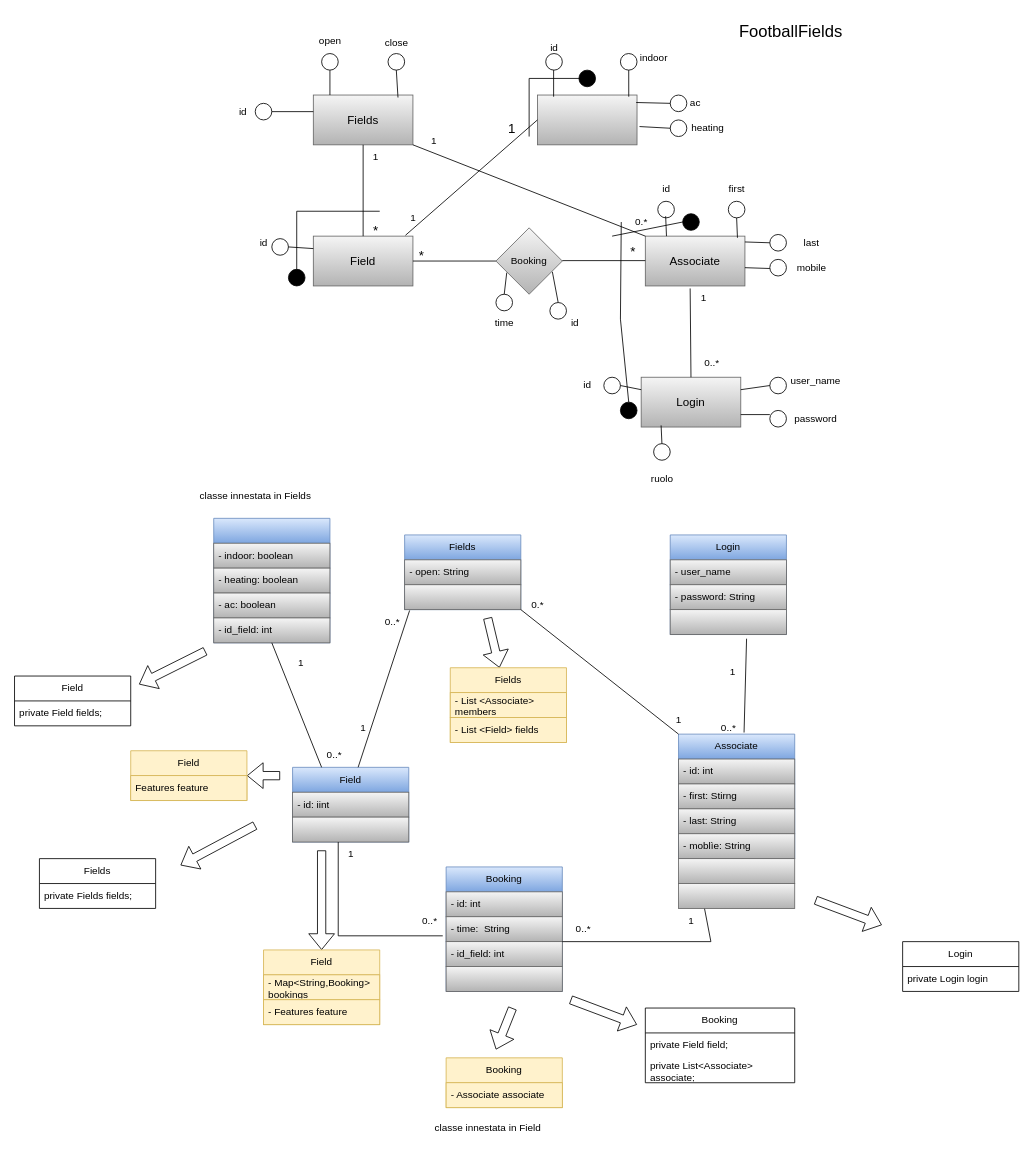
Some shapes in this 1033 by 1155 pixel diagram are drawn without their labels. Here are the shapes that lost their labels. From the top down, the box of each, then its label:
(537, 94, 637, 145): Feature
(213, 518, 330, 643): Features
(404, 584, 521, 610): - close: String
(669, 609, 786, 635): - ruole: enum
(292, 816, 409, 842): - id_fields: int
(678, 858, 795, 884): - id_login: int
(678, 883, 795, 908): - id_fields :Fields
(445, 966, 562, 991): - id_associate: int
